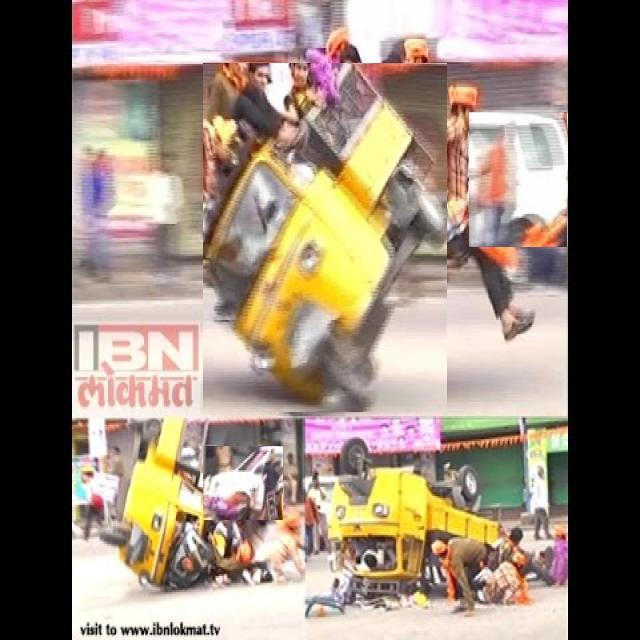accident: (204, 64, 447, 412), (306, 467, 500, 609), (100, 417, 255, 588)
car: (470, 113, 567, 247), (204, 446, 283, 520)
